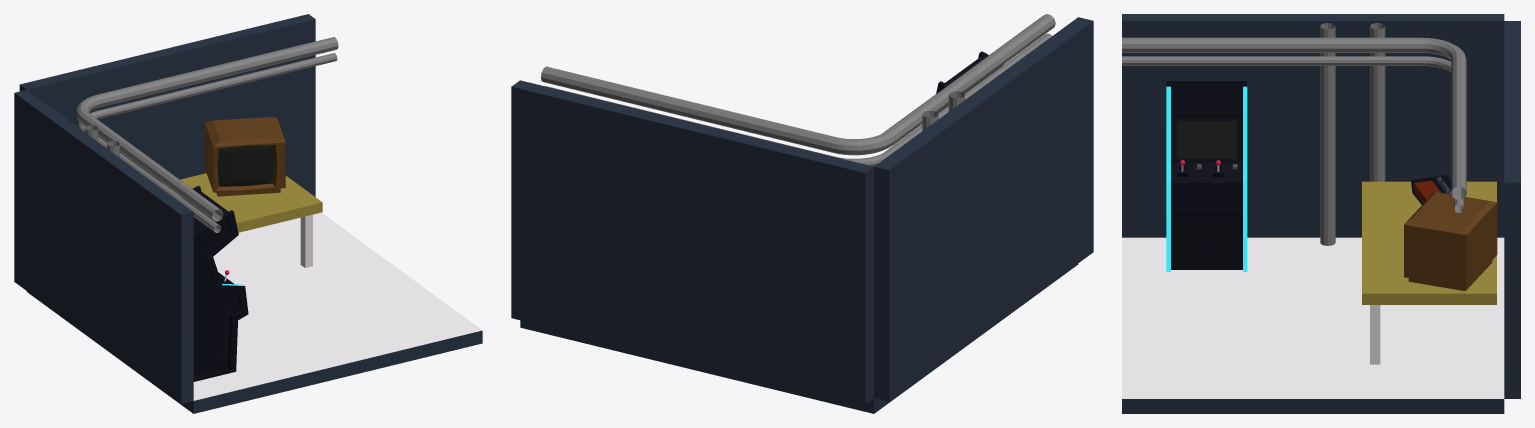
File: room-transformed.glb
The picture shows the model from 3 angles, left to right: view 1: azimuth 30°, elevation 25°; view 2: azimuth 150°, elevation 25°; view 3: azimuth 270°, elevation 25°; orthographic projection. The views are drawn at different scales.
Visible parts, largest first — view 1: Walls, Tube top; view 2: Walls, Tube top; view 3: Walls, Tube top, Plane.005.
Part boxes in pixels (x1,y1,x2,y2): Walls: (14, 14, 482, 413); Tube top: (76, 37, 338, 281); Walls: (511, 17, 1093, 413); Tube top: (541, 14, 1055, 166); Walls: (1122, 14, 1520, 413); Tube top: (1122, 23, 1466, 245); Plane.005: (1166, 86, 1247, 271).
Size of the model in its own units: 8.34 by 5.51 by 8.34.
3 materials, 3 textured.
